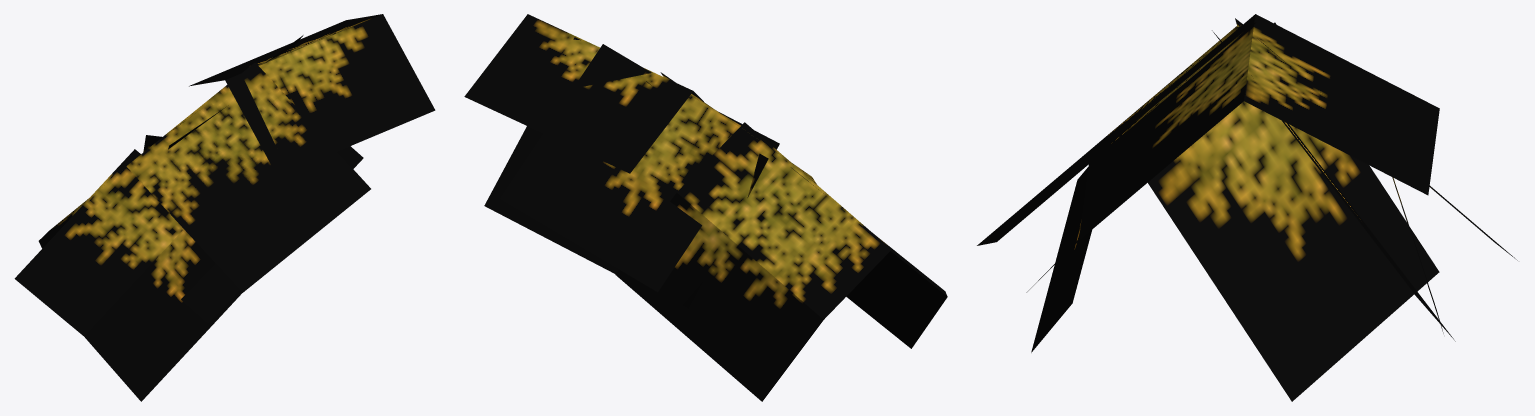
Rendered from larch_leaves.obj.
The picture shows the model from 3 angles, left to right: view 1: azimuth 30°, elevation 25°; view 2: azimuth 150°, elevation 25°; view 3: azimuth 270°, elevation 25°; orthographic projection. The views are drawn at different scales.
Visible parts, largest first — view 1: plane, cube; view 2: plane, cube; view 3: cube, plane.
Part boxes in pixels (box(x1,y1,x2,y2)): plane: box(14, 14, 435, 401); cube: box(126, 32, 370, 292); plane: box(464, 14, 947, 401); cube: box(484, 37, 816, 308); cube: box(977, 22, 1517, 401); plane: box(1026, 14, 1443, 352).
Bounding box in the file's own units: 3.67 × 2.5 × 2.31.
